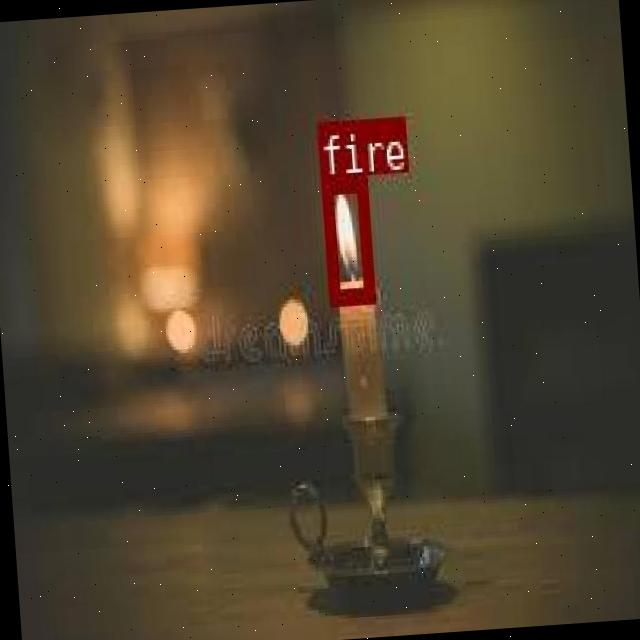fire: (319, 172, 372, 302)
